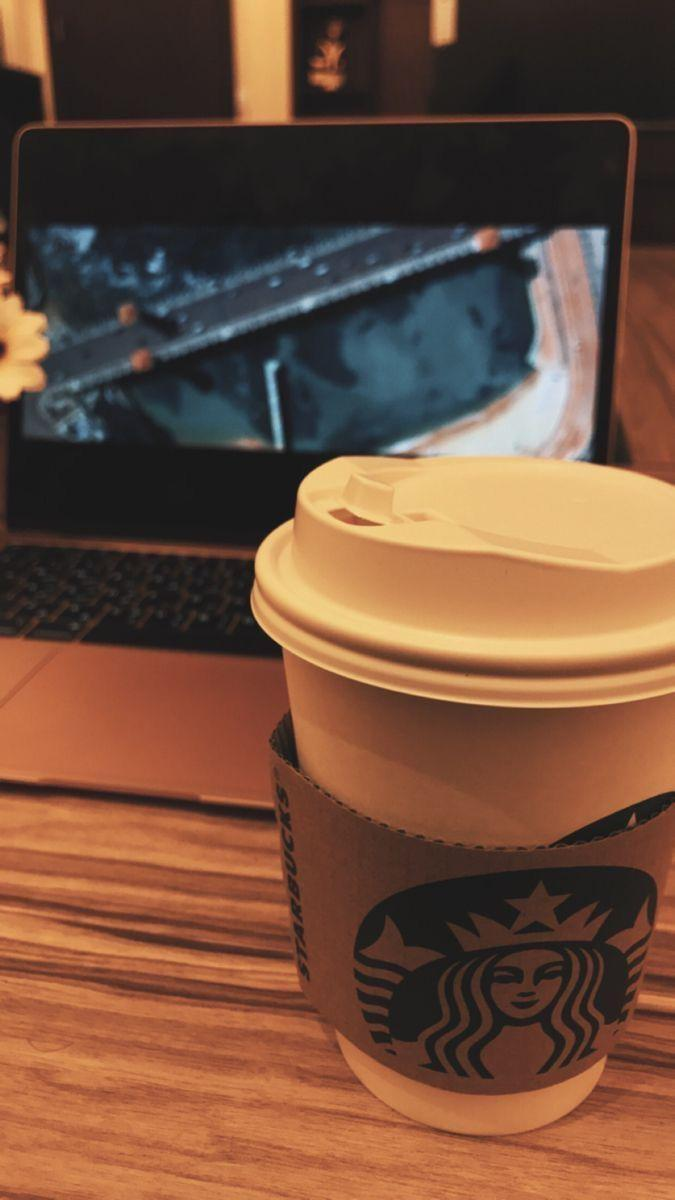cup-disposable: (244, 440, 674, 1137)
